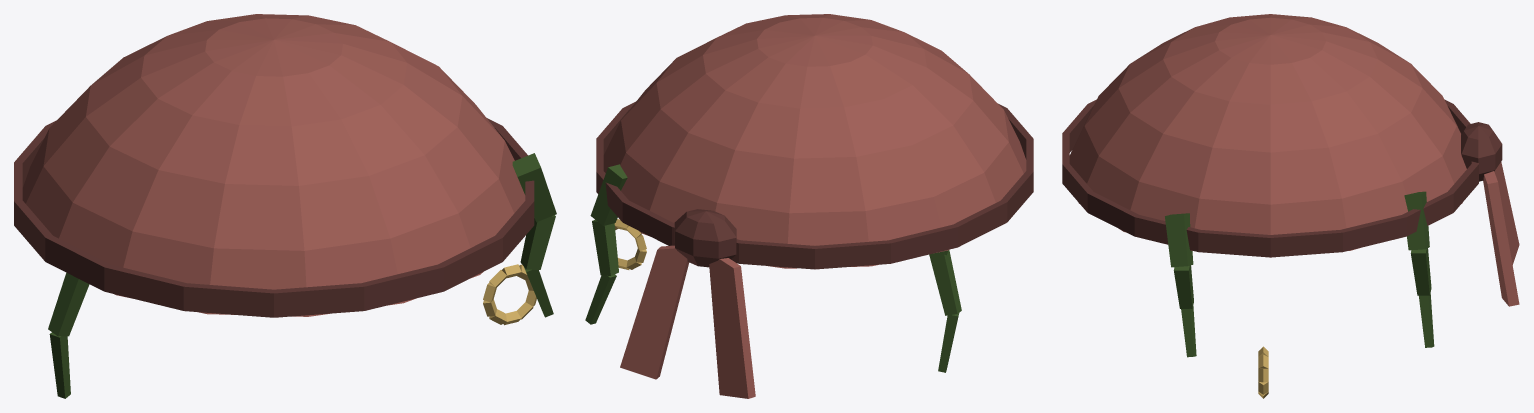
Rendered from smuggler_bandana.glb.
The picture shows the model from 3 angles, left to right: view 1: azimuth 30°, elevation 25°; view 2: azimuth 150°, elevation 25°; view 3: azimuth 270°, elevation 25°; orthographic projection. The views are drawn at different scales.
Visible parts, largest first — view 1: smuggler_bandana; view 2: smuggler_bandana; view 3: smuggler_bandana.
Boxes of the visible parts, x1,y1,x2,y2 form: smuggler_bandana: [14, 14, 556, 398]; smuggler_bandana: [585, 14, 1033, 398]; smuggler_bandana: [1062, 14, 1519, 398].
Bounding box in the file's own units: 1.26 × 0.8311 × 1.28.
